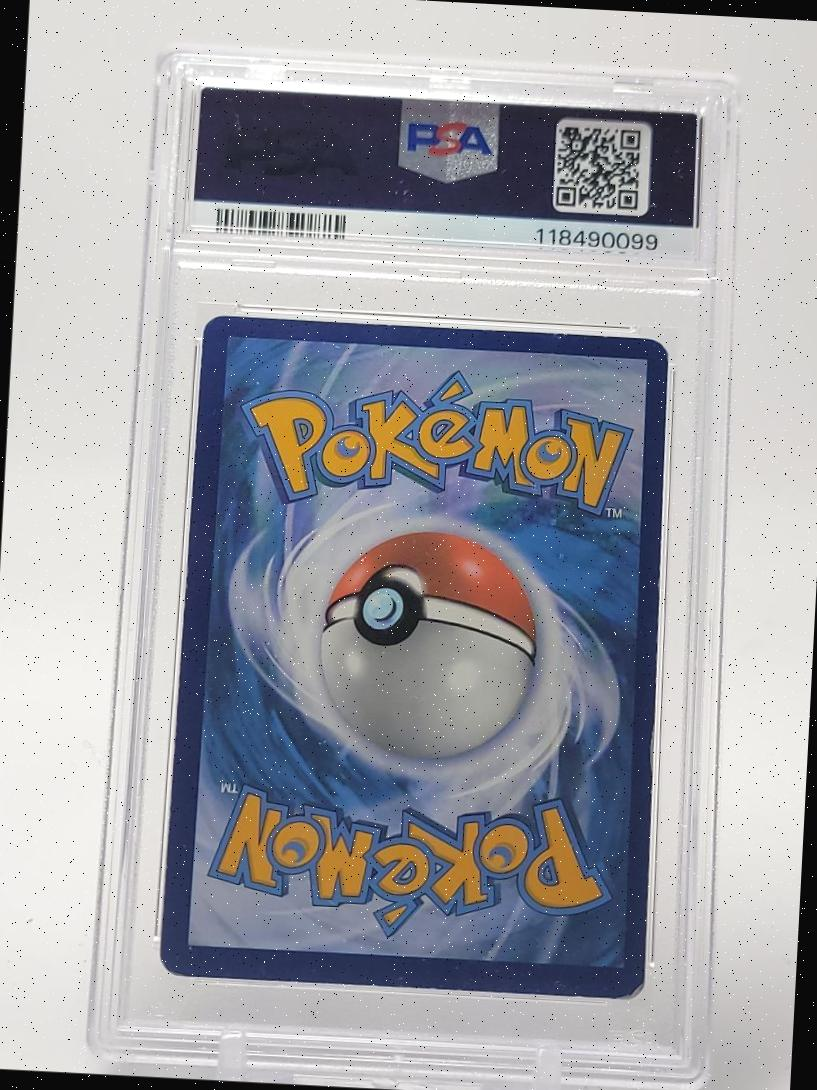card-2UtV: (158, 314, 669, 1000)
